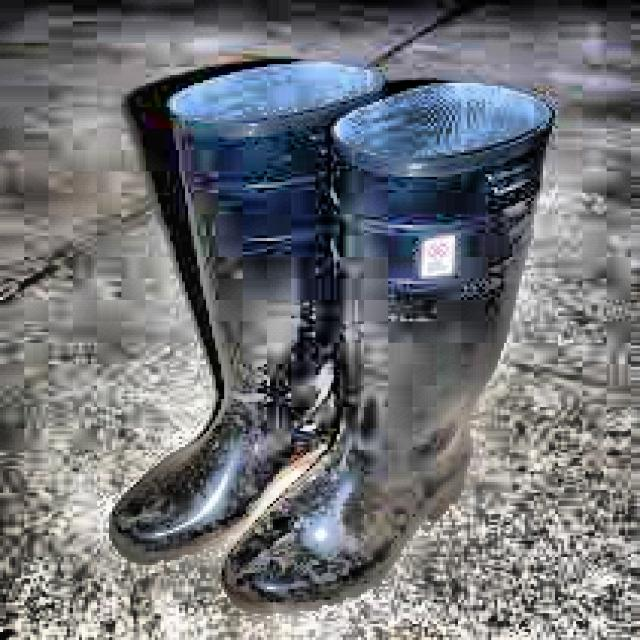shoes: (15, 43, 640, 626)
